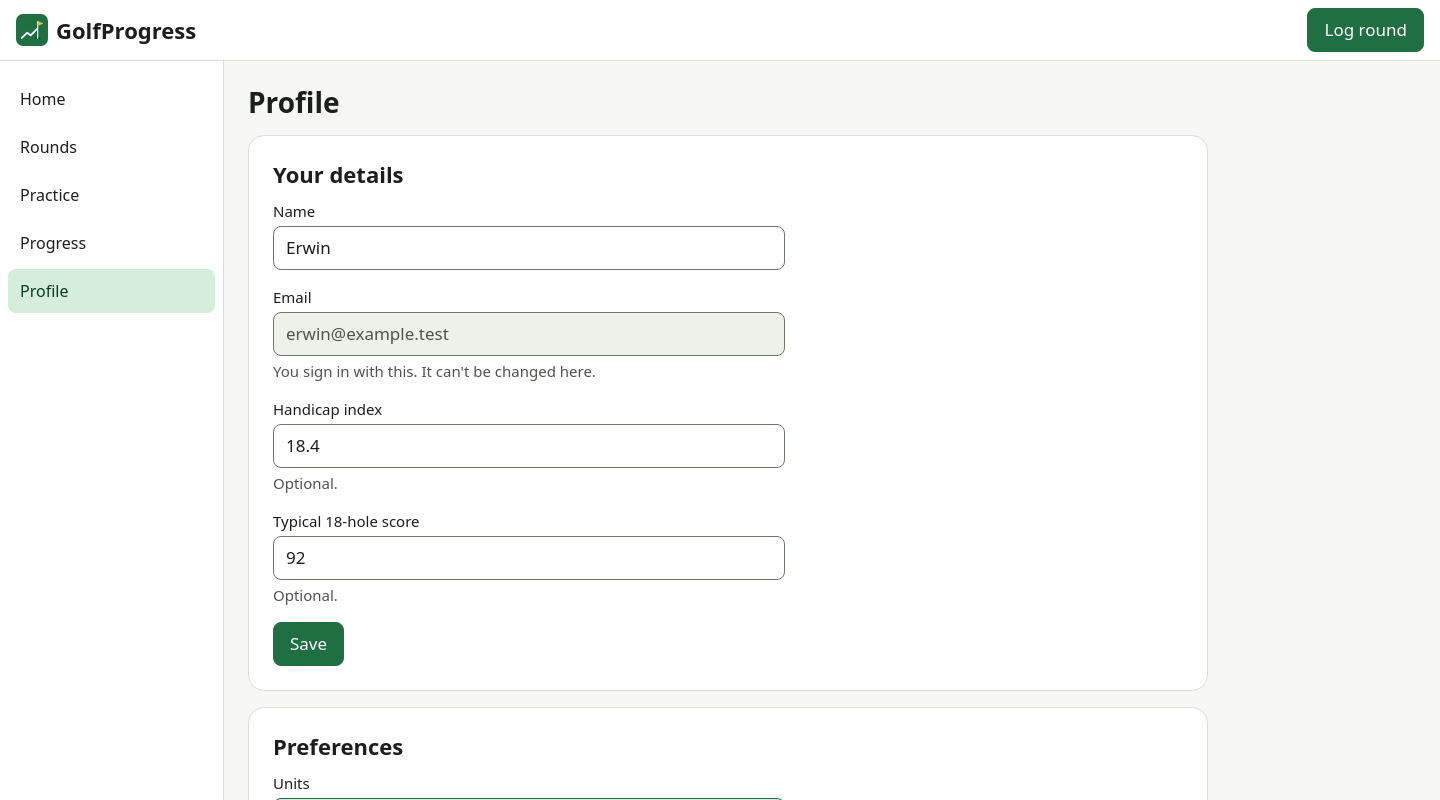
it: profile (#111) › checks the rules before sending
The width and height of the screenshot is (1440, 800).
Replace the text in the field labelled "Typical 18-hole score" with "300" at (529, 558), box [273,536,785,580]
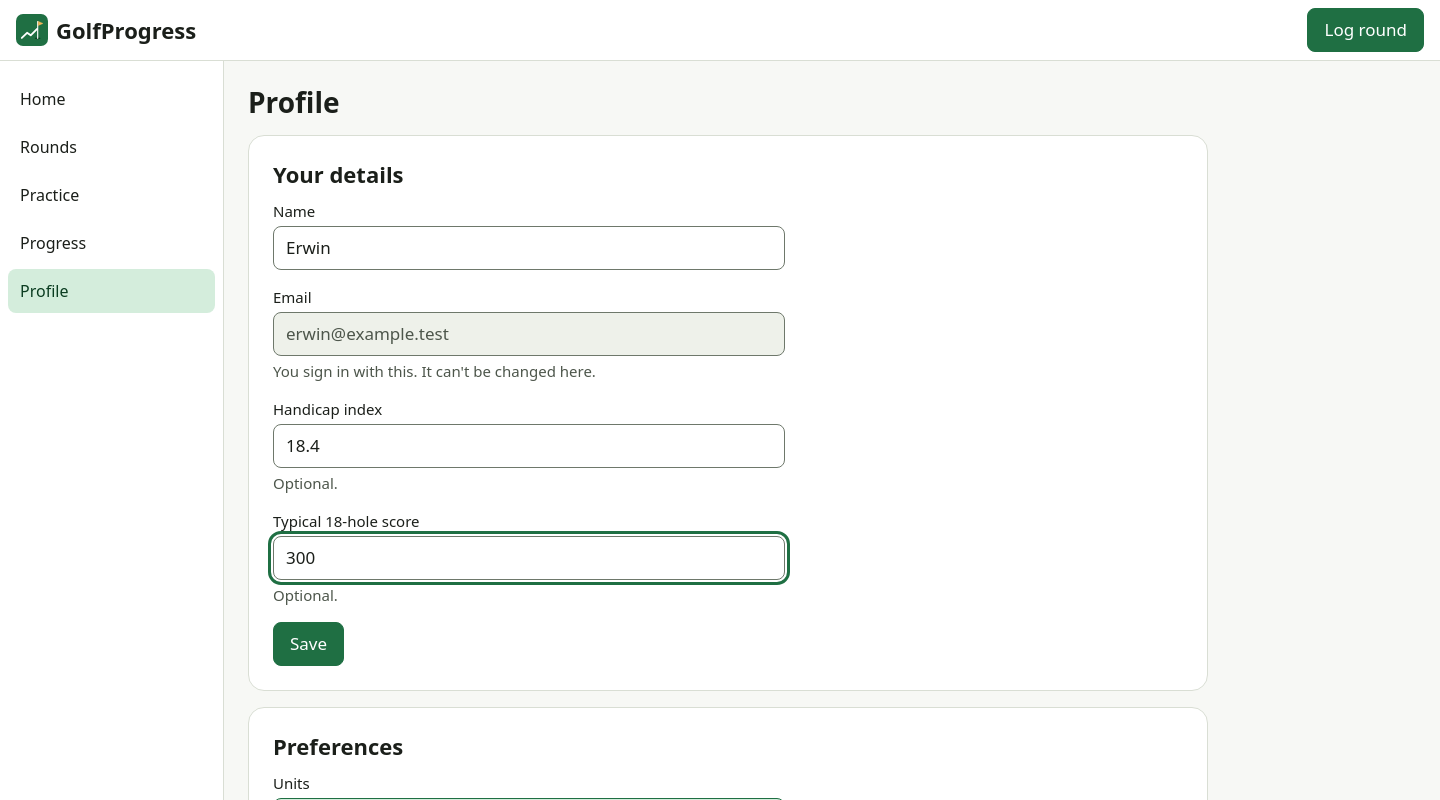
Click the button "Save".
click(309, 644)  # box [273,622,344,666]
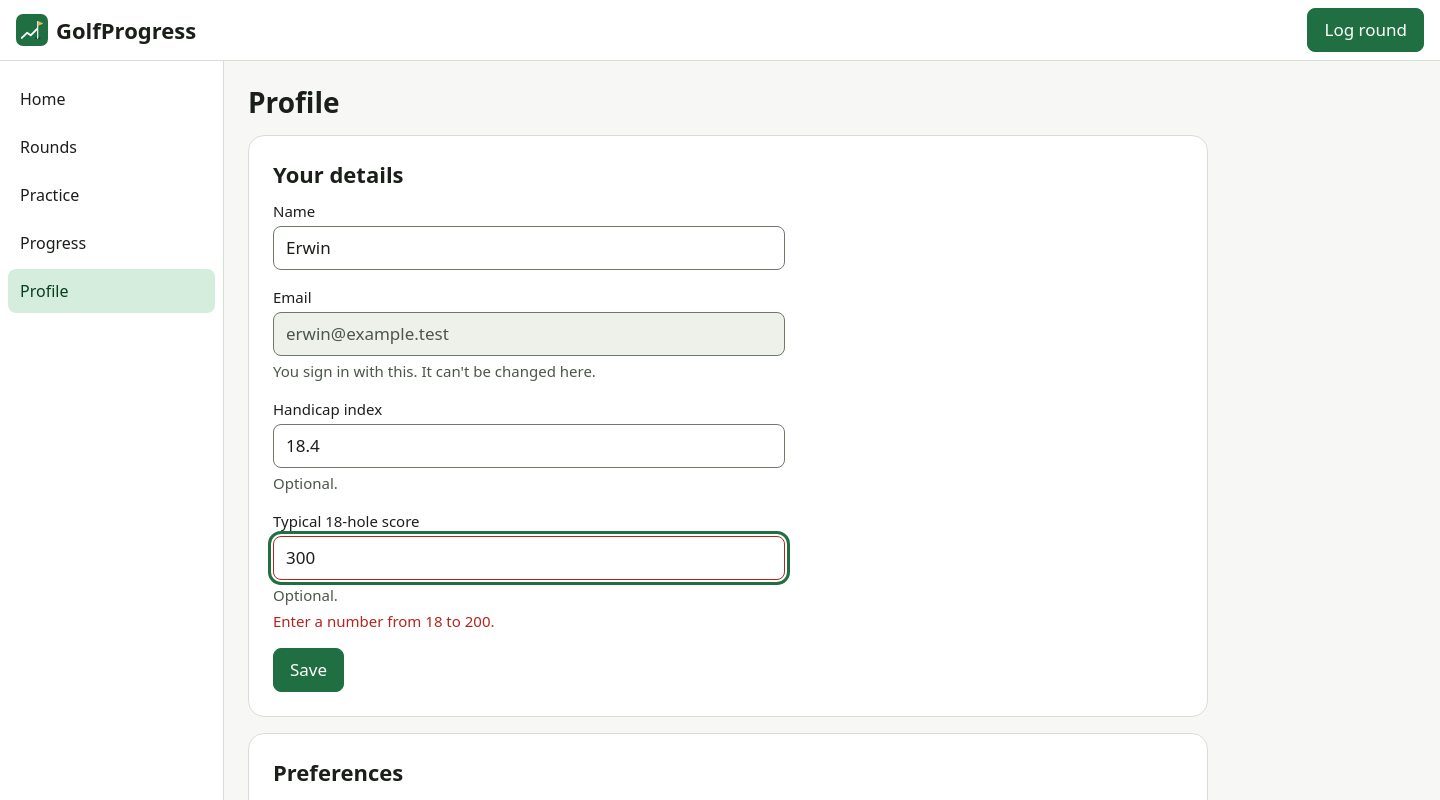
Check: the text "Enter a number from 18 to 200." is shown, box [273,611,494,631]
